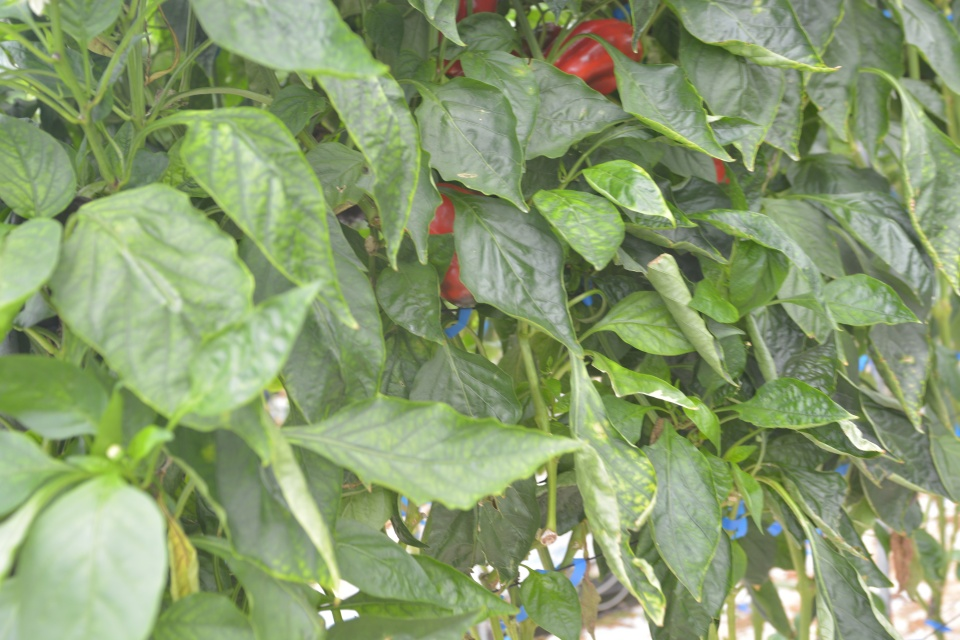fruit: (542, 17, 643, 96), (428, 181, 488, 308), (439, 0, 497, 76)
